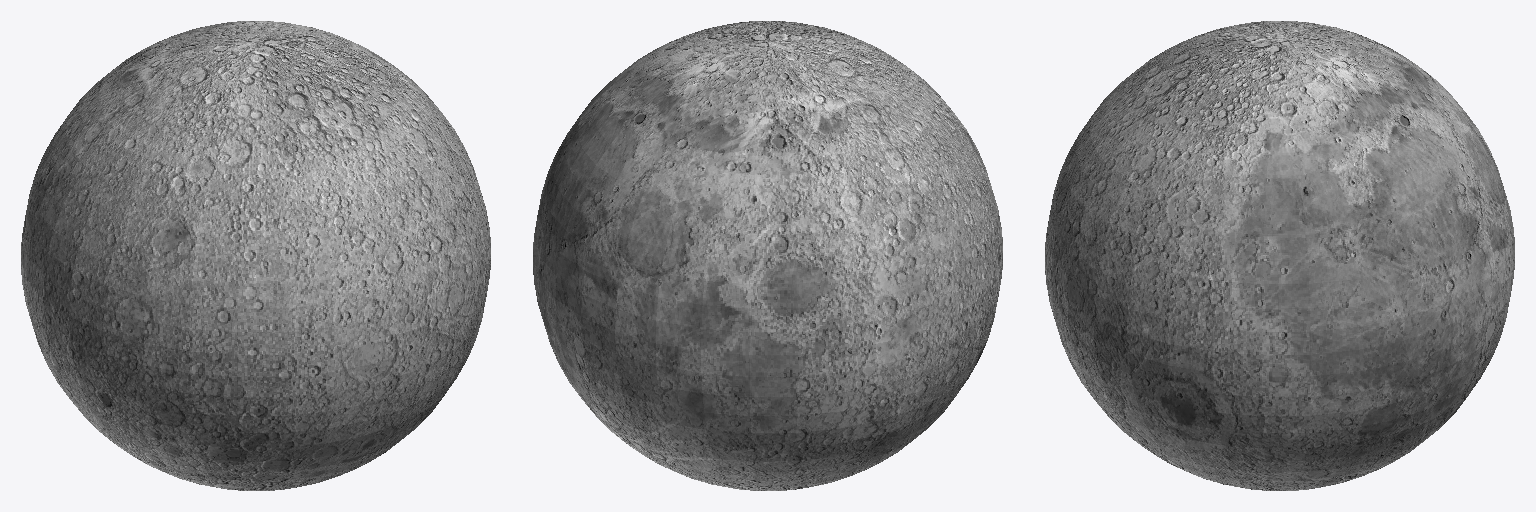
3 renders of one model, left to right at view 1: azimuth 30°, elevation 25°; view 2: azimuth 150°, elevation 25°; view 3: azimuth 270°, elevation 25°, orthographic.
Visible parts, largest first — view 1: pSphere1; view 2: pSphere1; view 3: pSphere1.
Part boxes in pixels (x1,y1,x2,y2): pSphere1: (21, 21, 490, 490); pSphere1: (533, 21, 1002, 490); pSphere1: (1045, 21, 1514, 490).
Size of the model in its own units: 1.99 by 2 by 2.
Materials: 1 (1 with a texture image).